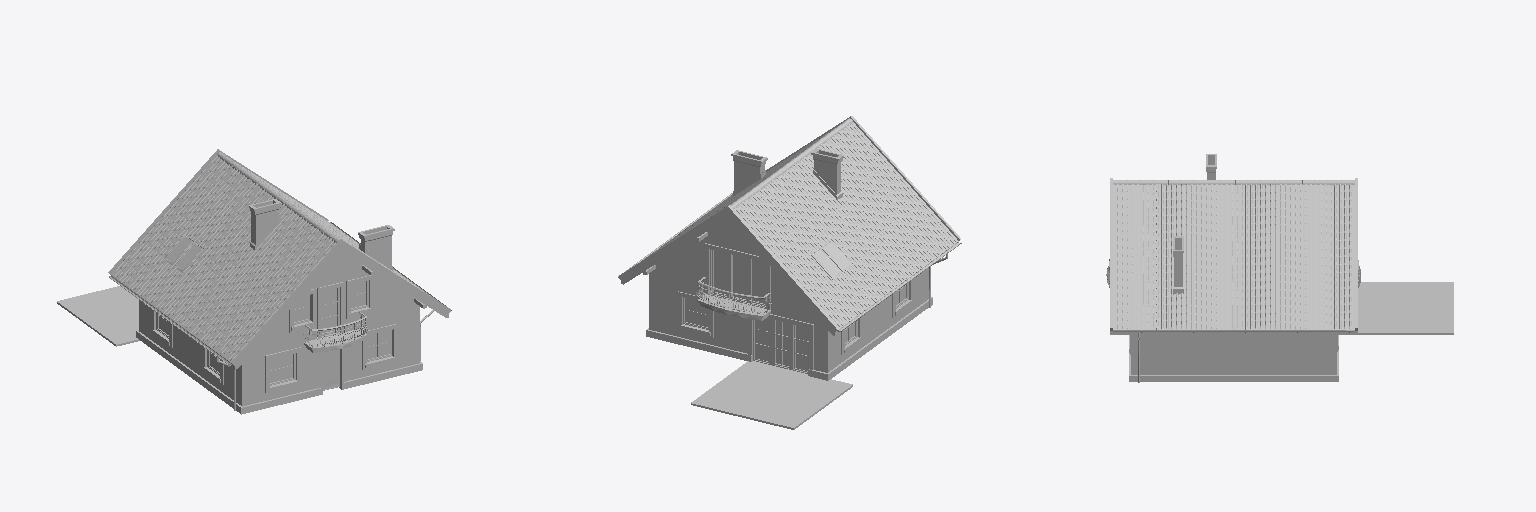
File: casa 1.obj
The picture shows the model from 3 angles: view 1: azimuth 30°, elevation 25°; view 2: azimuth 150°, elevation 25°; view 3: azimuth 270°, elevation 25°; orthographic projection.
Parts seen in each view (by area): view 1: walls; view 2: walls; view 3: walls.
Part boxes in pixels (x1,y1,x2,y2): walls: (57,149,451,414); walls: (618,116,961,429); walls: (1106,154,1453,382).
Bounding box in the file's own units: 12.01 × 8.48 × 16.02.